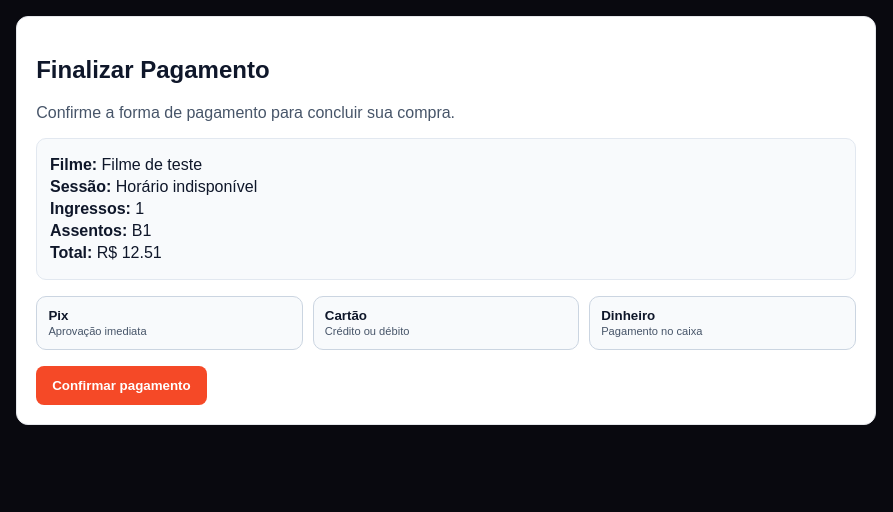
Scenario: preserva o erro de conflito quando o histórico não confirma pagamento válido
Click the radio button labelled "Pix Aprovação imediata": coordinates (97, 331) [36, 296, 303, 350]
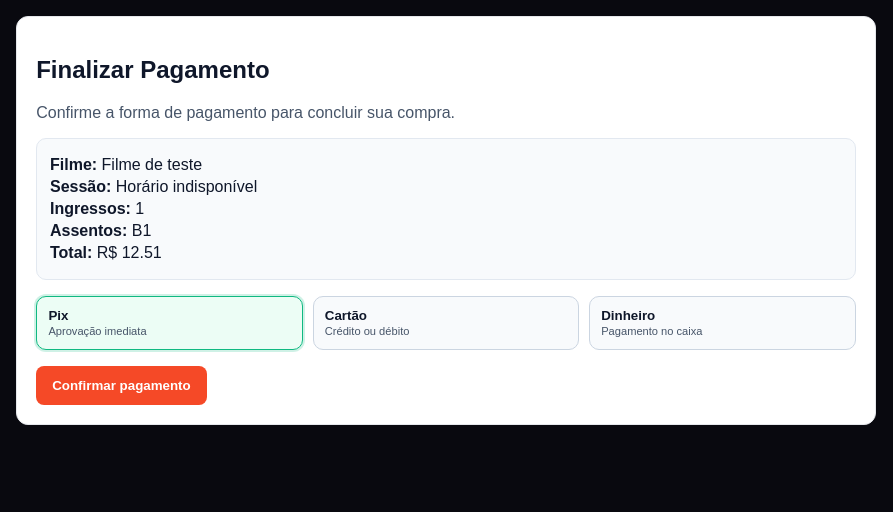
Click the button "Confirmar pagamento": coordinates (121, 386) [36, 366, 207, 405]
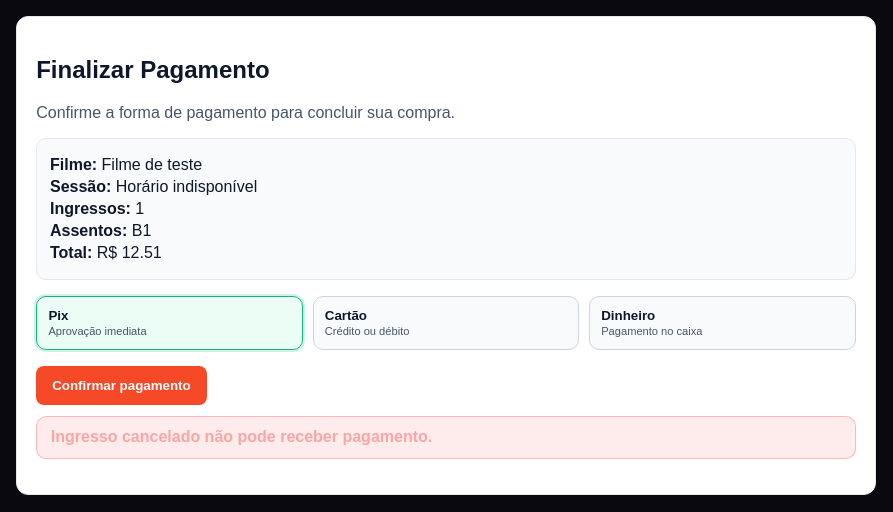
expect the message reads "Ingresso cancelado não pode receber pagamento.": met, box [51, 428, 432, 445]
